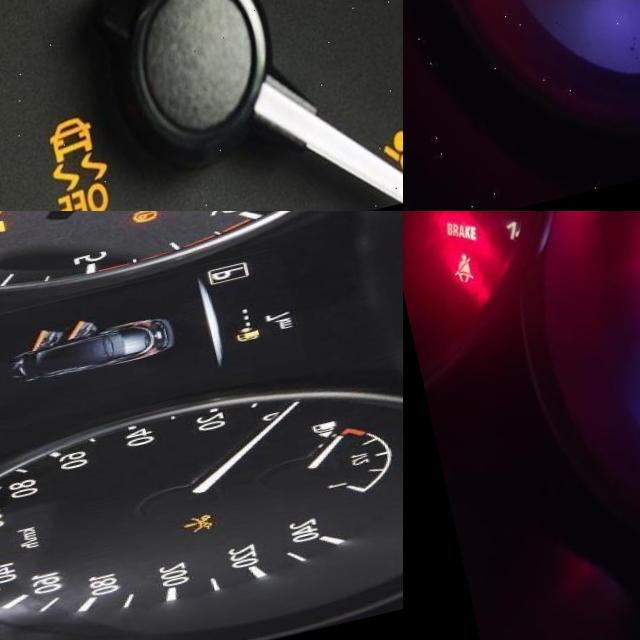Seat Belt: (370, 0, 403, 84), (439, 250, 470, 291)
